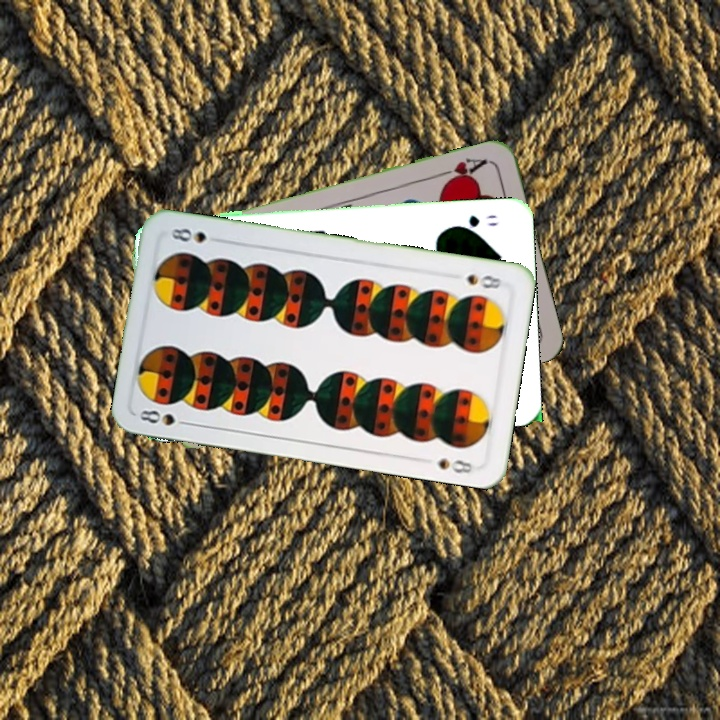GO: (448, 210, 499, 234)
HA: (433, 154, 490, 187)
S8: (136, 406, 194, 428), (462, 270, 504, 292)
